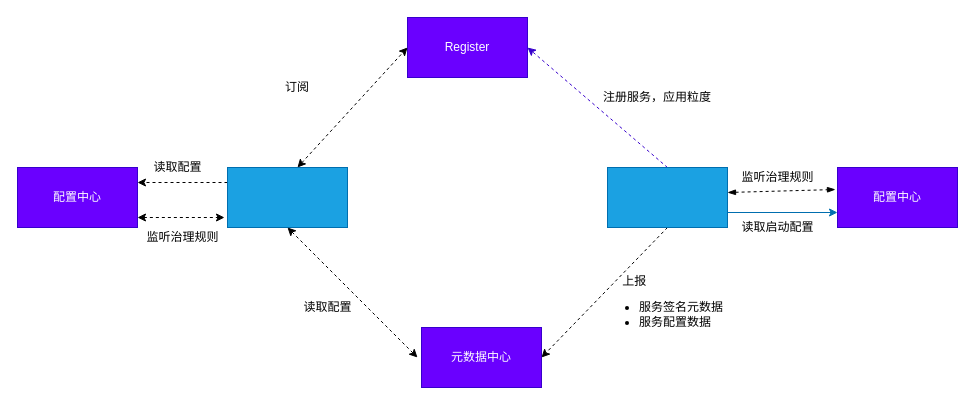
The diagram is 975 pixels wide and 405 high, and some of its shapes have lost their labels. Each missing label, with the centre of its shape:
Consumer: the point at 287,197
Provider: the point at 667,197
